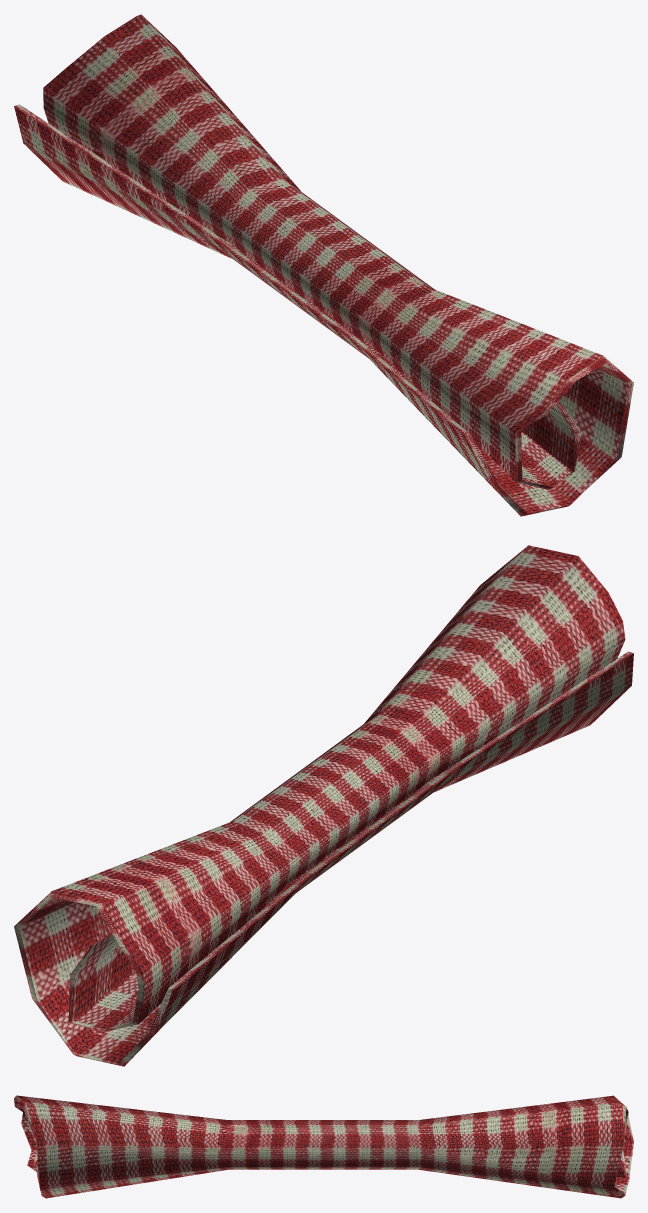
The model's file is Kagt.fbx.
The picture shows the model from 3 angles, top to bottom: view 1: azimuth 30°, elevation 25°; view 2: azimuth 150°, elevation 25°; view 3: azimuth 270°, elevation 25°; orthographic projection. The views are drawn at different scales.
Visible parts, largest first — view 1: KırmızıKağıt; view 2: KırmızıKağıt; view 3: KırmızıKağıt.
Boxes of the visible parts, <box> form: KırmızıKağıt: <box>14,14,633,516</box>; KırmızıKağıt: <box>14,545,633,1066</box>; KırmızıKağıt: <box>14,1095,633,1198</box>.
Size of the model in its own units: 261 by 245 by 1366.
1 material, 1 textured.
